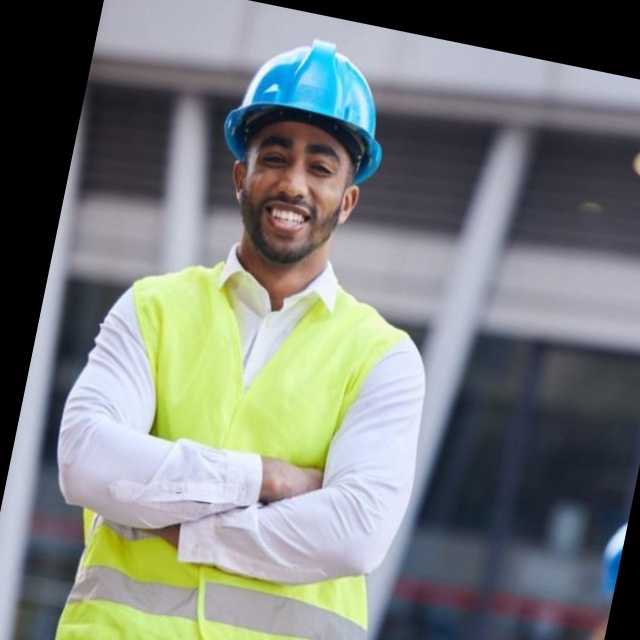Con_Casco: (198, 24, 404, 277)
Con_Chaleco: (57, 245, 433, 640)
